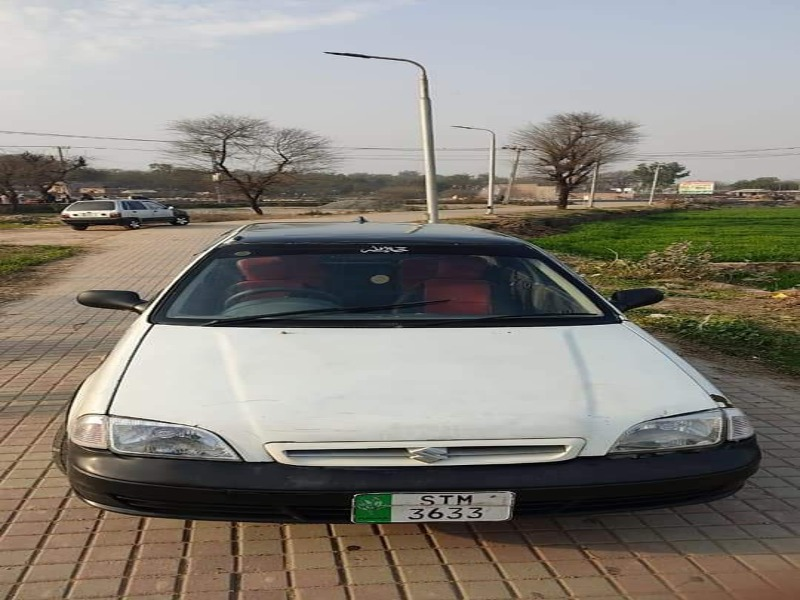License Plate: (347, 489, 517, 530)
